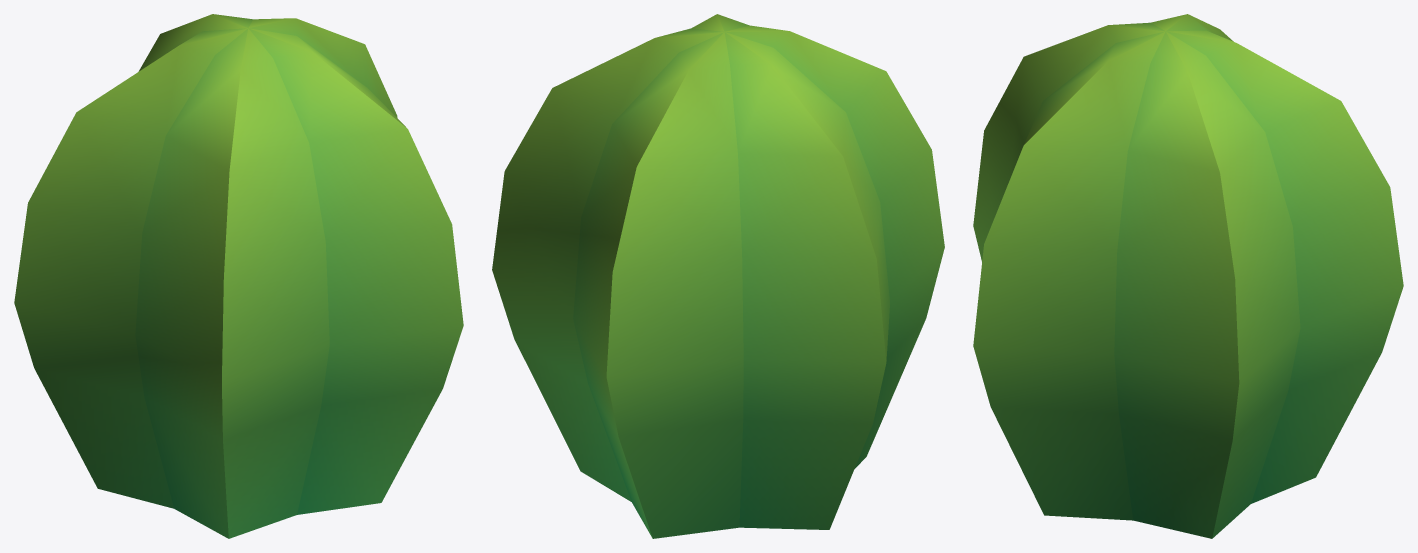
File: cactus-leaf.glb
3 views of the same model, side by side, from view 1: azimuth 30°, elevation 25°; view 2: azimuth 150°, elevation 25°; view 3: azimuth 270°, elevation 25° (orthographic).
Parts seen in each view (by area): view 1: cactus_B; view 2: cactus_B; view 3: cactus_B.
Boxes of the visible parts, x1,y1,x2,y2 form: cactus_B: [14, 14, 463, 538]; cactus_B: [492, 14, 944, 538]; cactus_B: [973, 14, 1403, 538].
Bounding box in the file's own units: 0.3478 × 0.3809 × 0.3308.
1 material, 1 textured.
